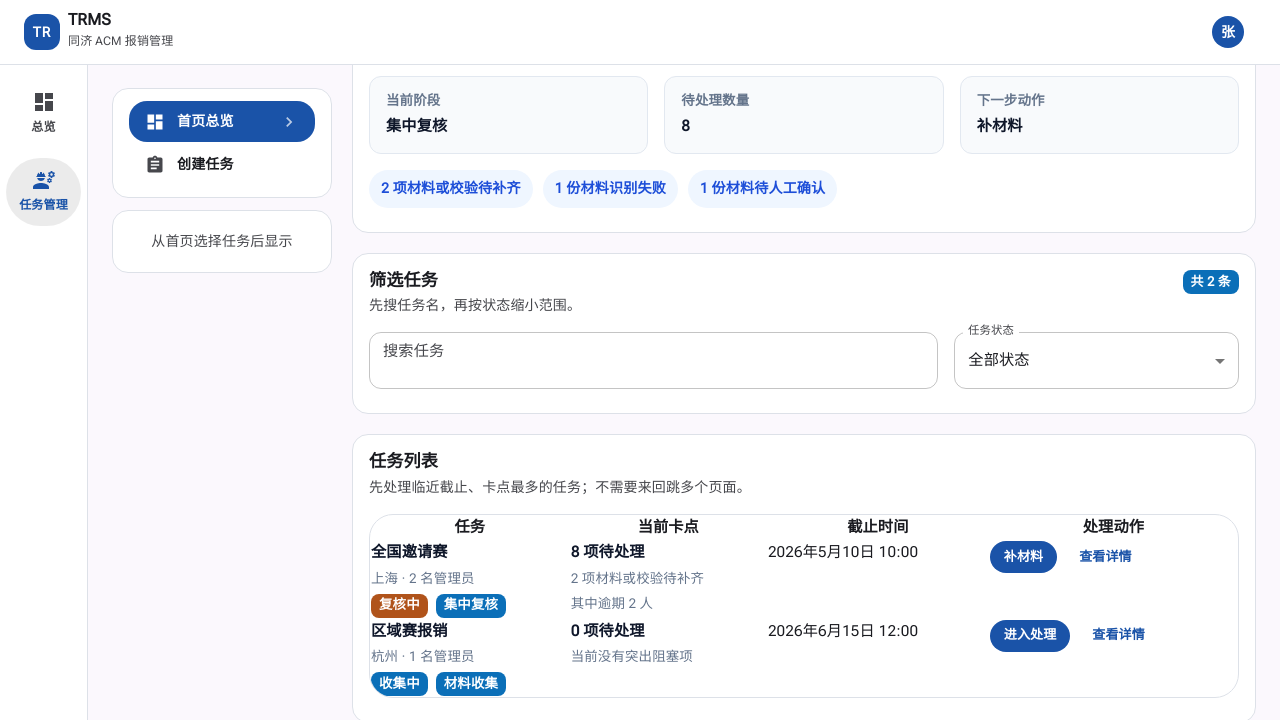
Test: admin task list page › renders admin tasks with anomaly summary, search and status filter
(page scrolled)
Check: the list named "当前优先任务提醒" shows "项材料或校验待补齐", box [381,180,521,196]
Check: the text "区域赛报销" is shown, box [371,622,448,640]
Type "区域赛" into the search field labelled "搜索任务".
click(654, 361); type("区域赛")  # box [369,332,938,389]
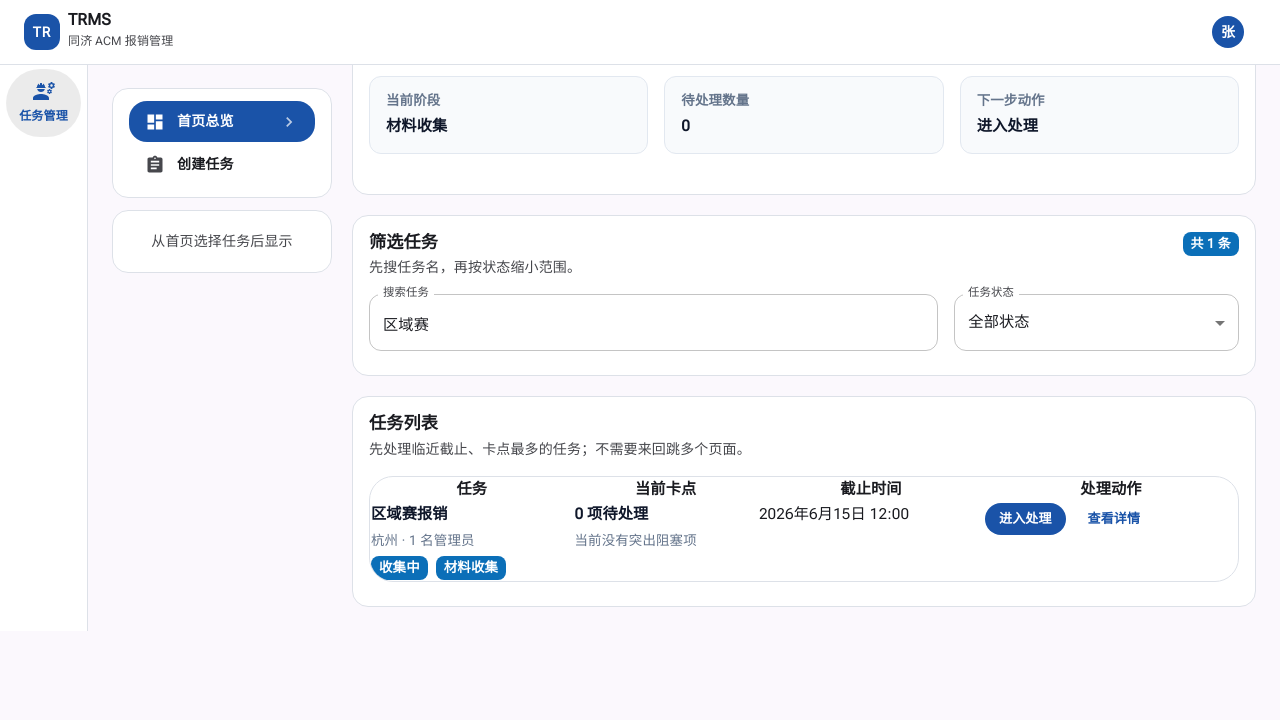
Check: the text "全国邀请赛" is not shown
Clear the search field labelled "搜索任务" at (654, 323), box [369,294,938,351]
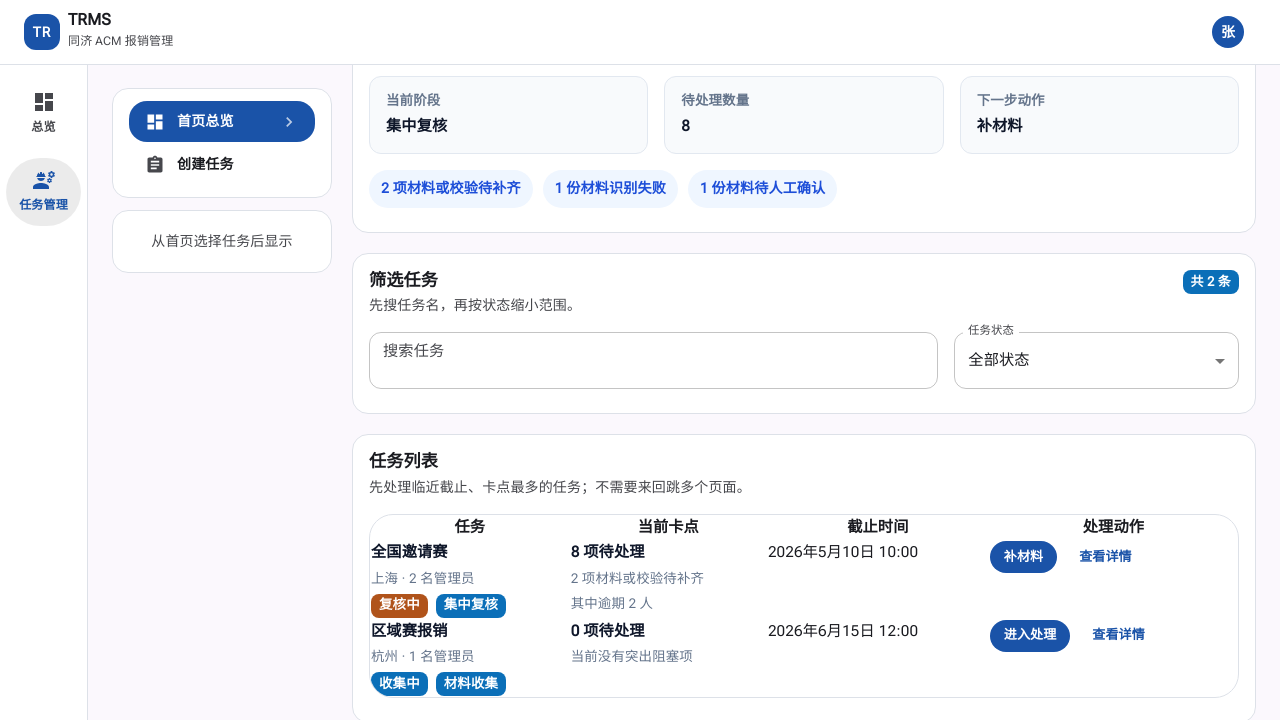
Select "复核中" in the dropdown labelled "任务状态" at (1097, 361), box [954,332,1239,389]
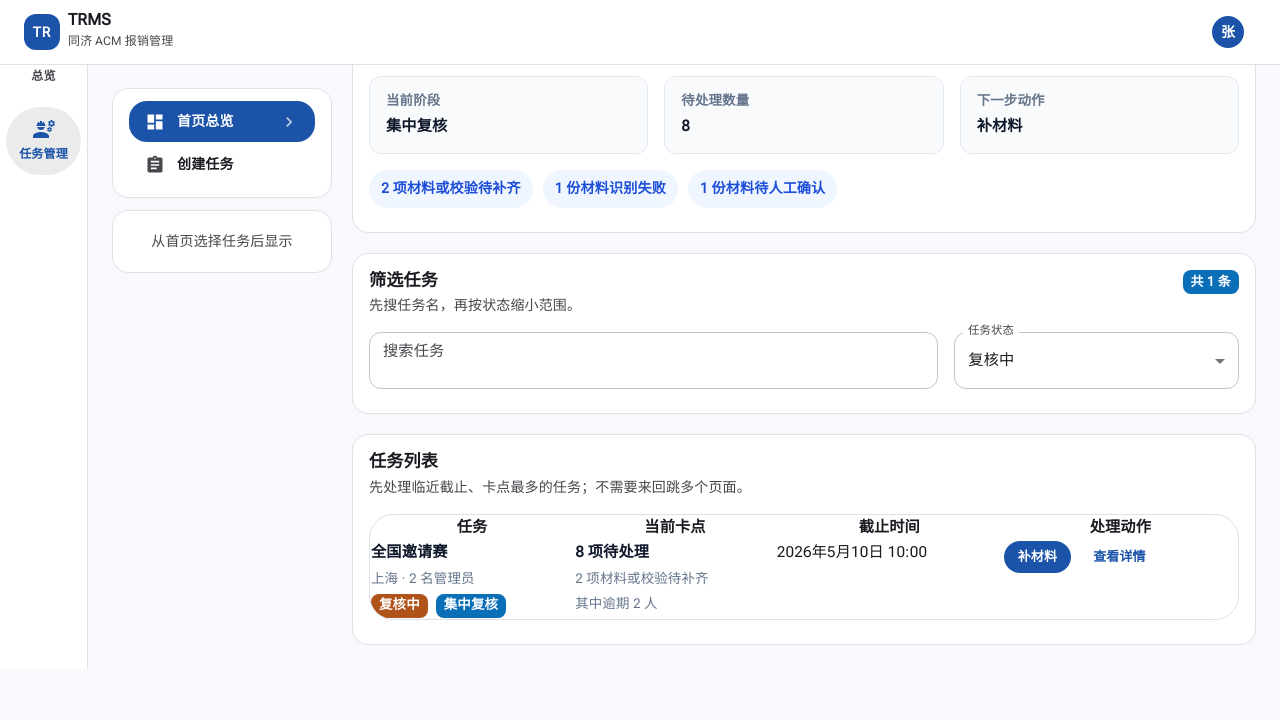
Check: the text "区域赛报销" is gone
